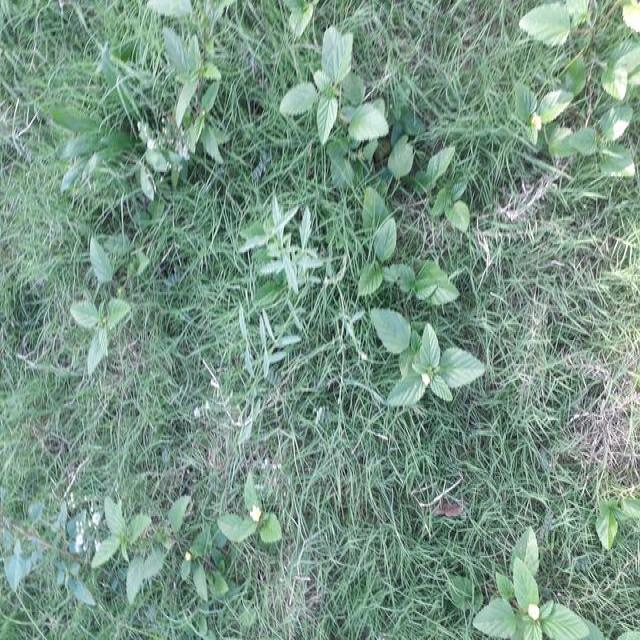weed: (538, 4, 634, 180), (287, 26, 380, 167), (90, 503, 212, 604), (142, 25, 225, 162), (354, 202, 448, 312), (486, 537, 586, 640), (370, 314, 474, 411), (238, 211, 312, 301), (212, 314, 331, 367), (224, 471, 278, 570), (69, 307, 137, 379)
